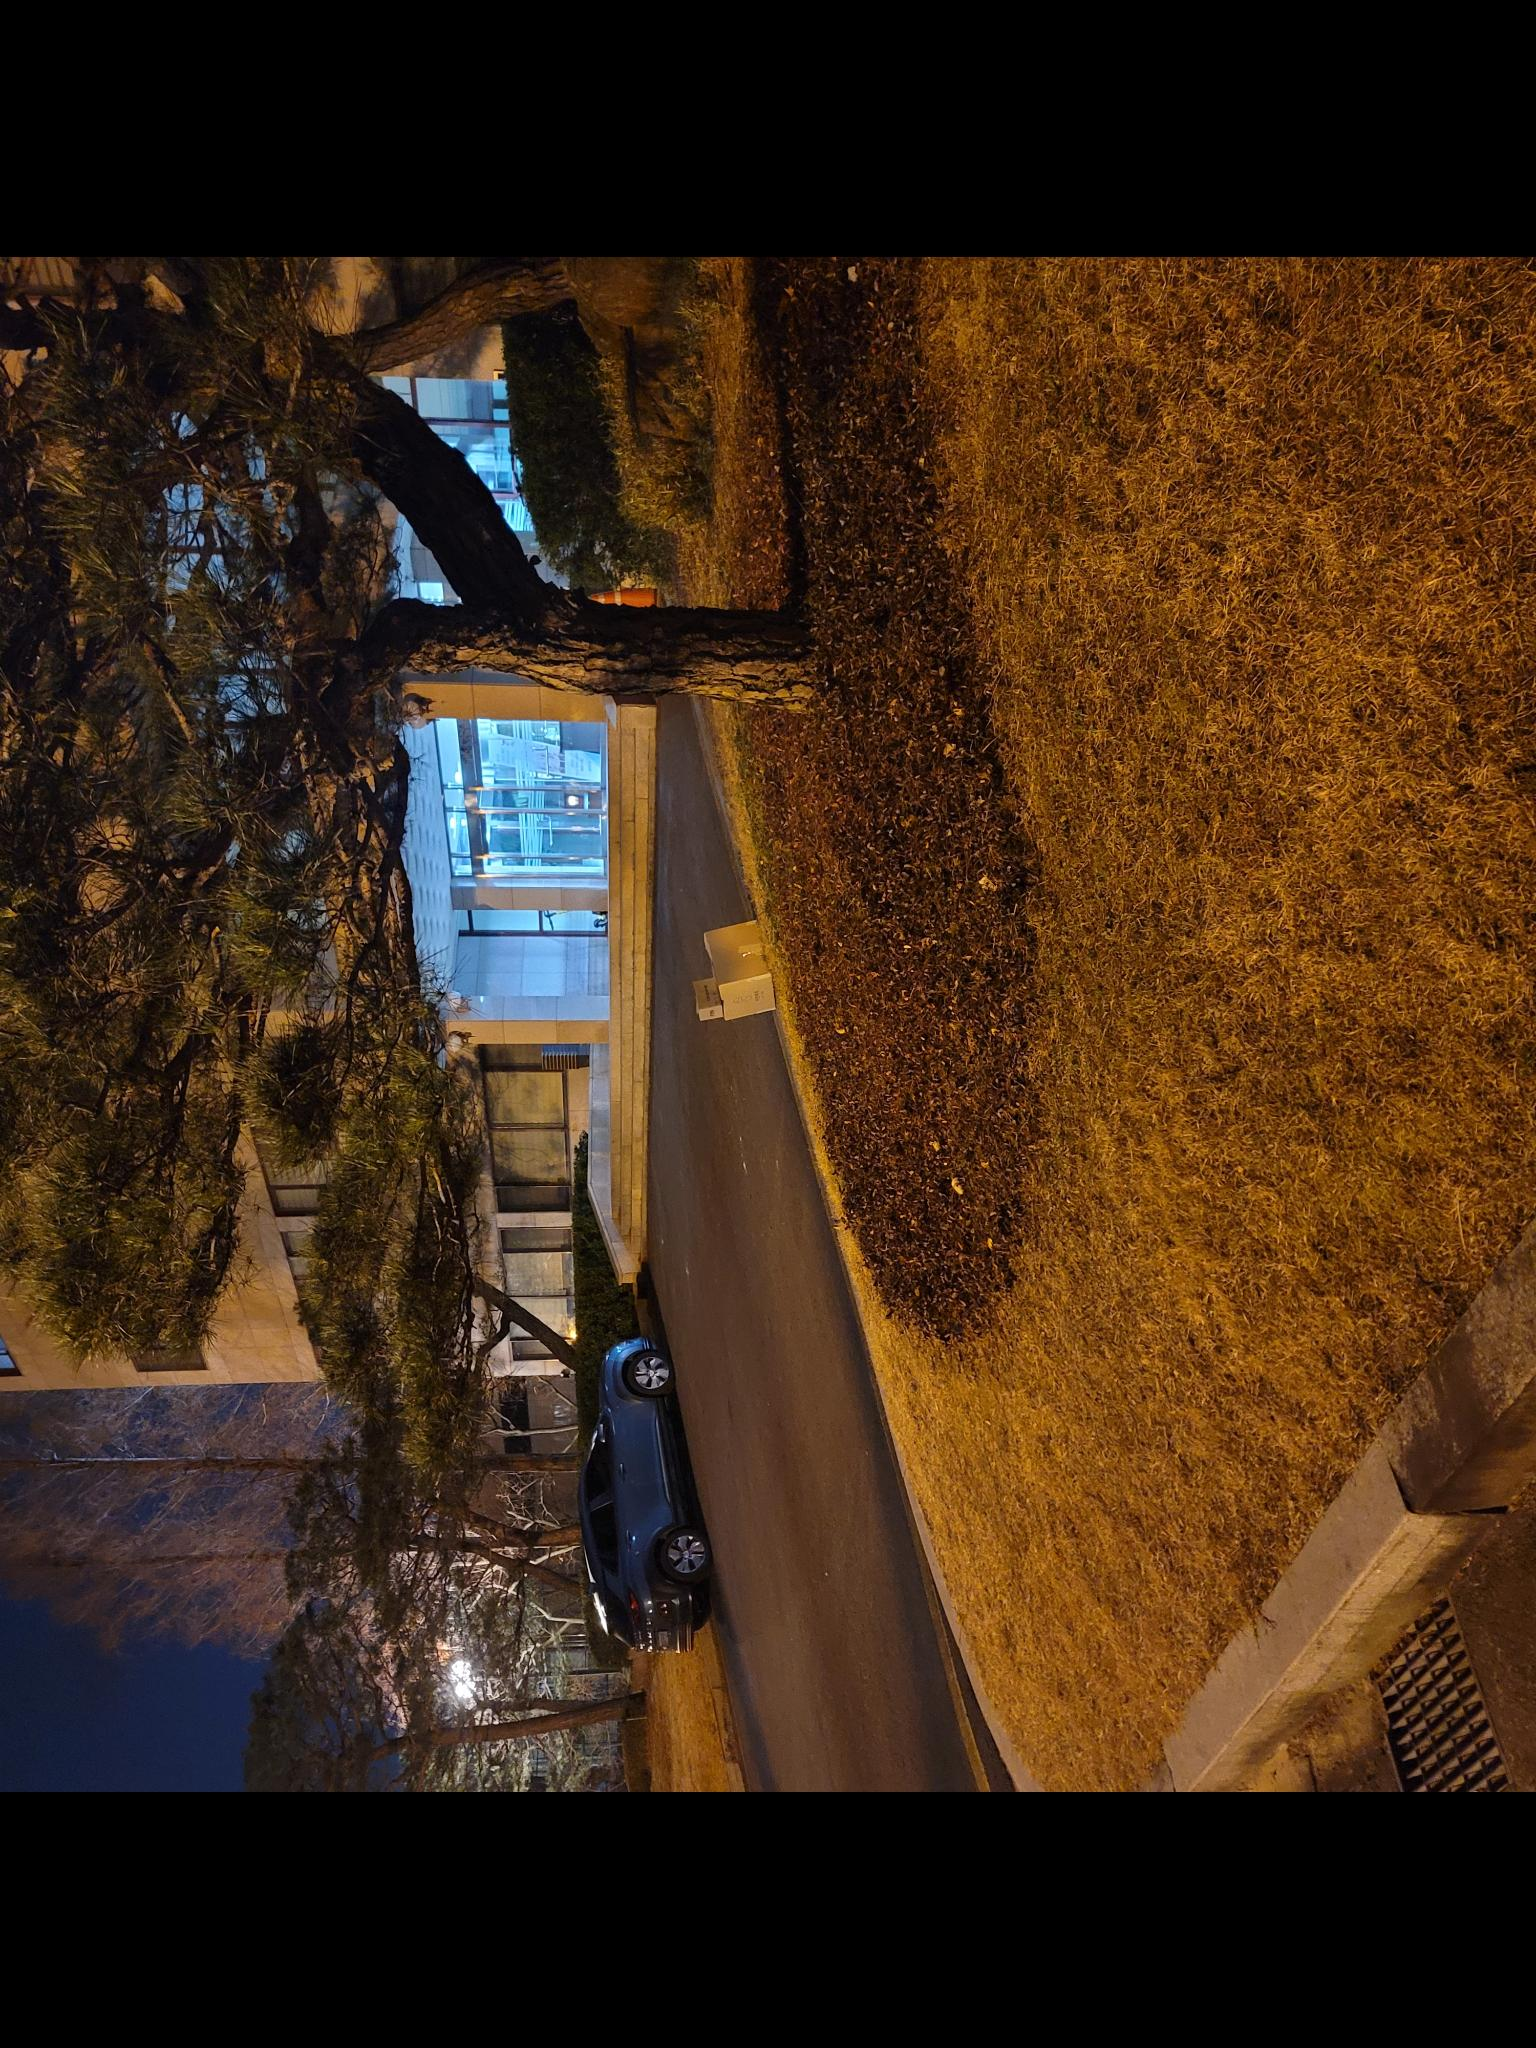Box: (700, 910, 771, 1022), (681, 968, 729, 1026)
